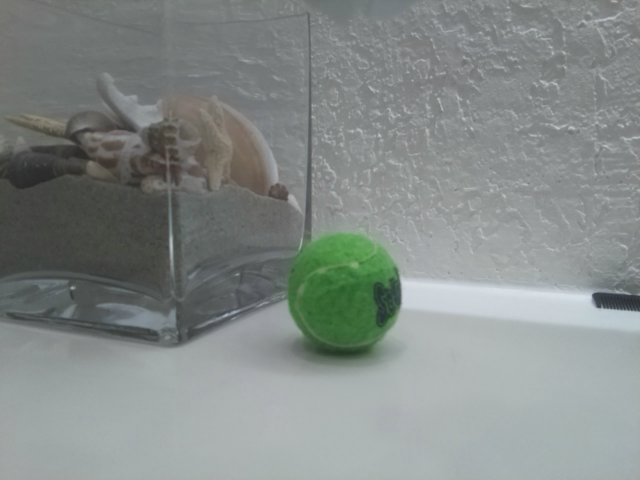green-ball: (286, 229, 403, 357)
